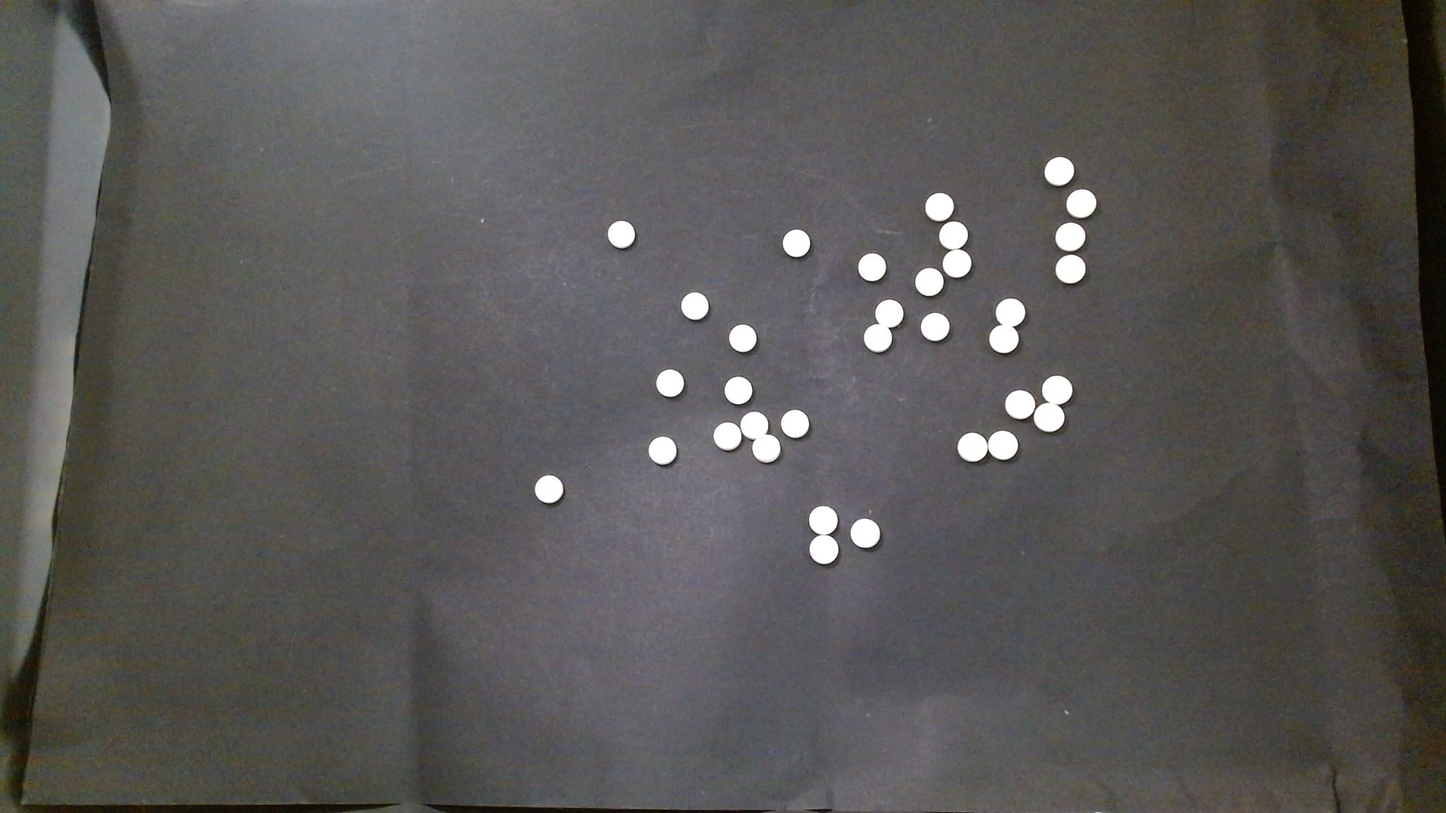Circle: (956, 431, 989, 462), (532, 473, 565, 504), (850, 517, 881, 550), (647, 435, 679, 466), (808, 505, 839, 537), (1055, 254, 1087, 285), (779, 408, 810, 439), (1005, 388, 1036, 419), (1065, 188, 1097, 218), (810, 534, 840, 566), (1054, 222, 1087, 251), (987, 430, 1017, 461), (728, 322, 758, 353), (655, 368, 685, 398), (924, 191, 954, 221), (739, 410, 769, 440), (1044, 156, 1074, 186), (856, 252, 887, 281), (1034, 403, 1065, 432), (988, 324, 1019, 353), (920, 312, 950, 341), (713, 421, 742, 451), (606, 220, 636, 249), (1041, 375, 1072, 403), (915, 267, 944, 296), (680, 291, 709, 320), (875, 299, 904, 328), (940, 221, 969, 250), (781, 229, 811, 257), (941, 250, 972, 277), (752, 434, 780, 463), (724, 376, 754, 403), (864, 324, 892, 352), (996, 298, 1024, 324)
